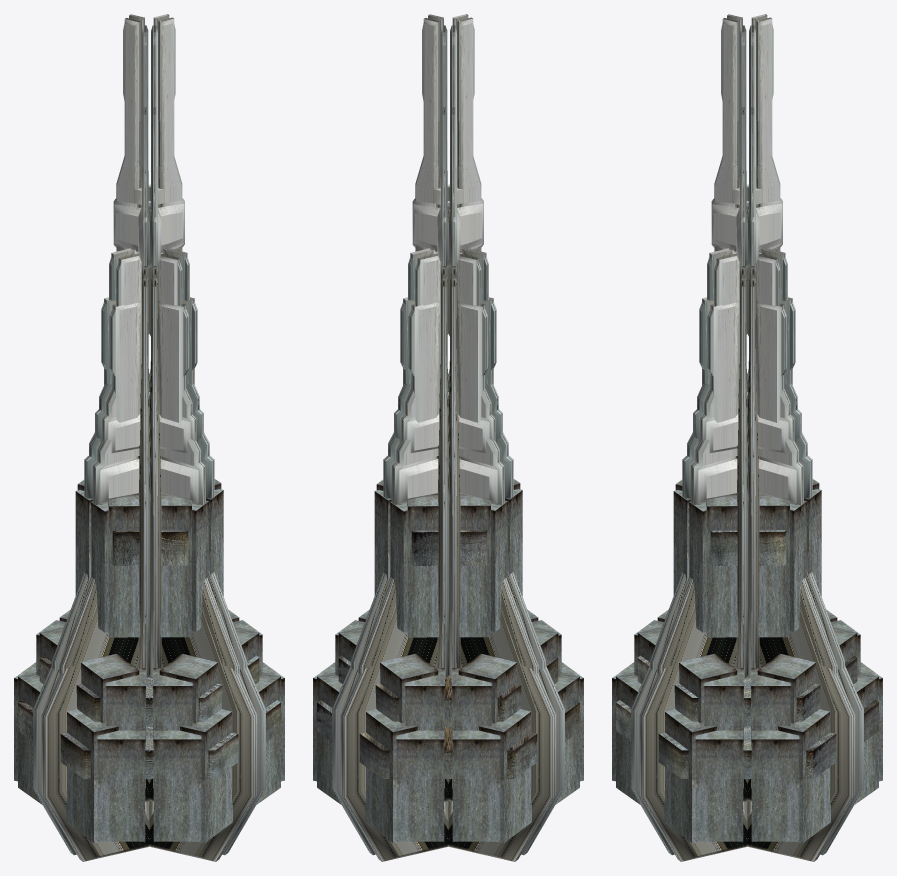
The model's file is hub_donelv3.fbx.
3 renders of one model, left to right at view 1: azimuth 30°, elevation 25°; view 2: azimuth 150°, elevation 25°; view 3: azimuth 270°, elevation 25°, orthographic.
Visible parts, largest first — view 1: Cylinder_1_1; view 2: Cylinder_1_1; view 3: Cylinder_1_1.
Part boxes in pixels (x1,y1,x2,y2): Cylinder_1_1: (14,14,284,861); Cylinder_1_1: (313,14,583,861); Cylinder_1_1: (612,14,882,861).
Bounding box in the file's own units: 89.93 × 320 × 95.9.
Materials: 3 (3 with a texture image).
